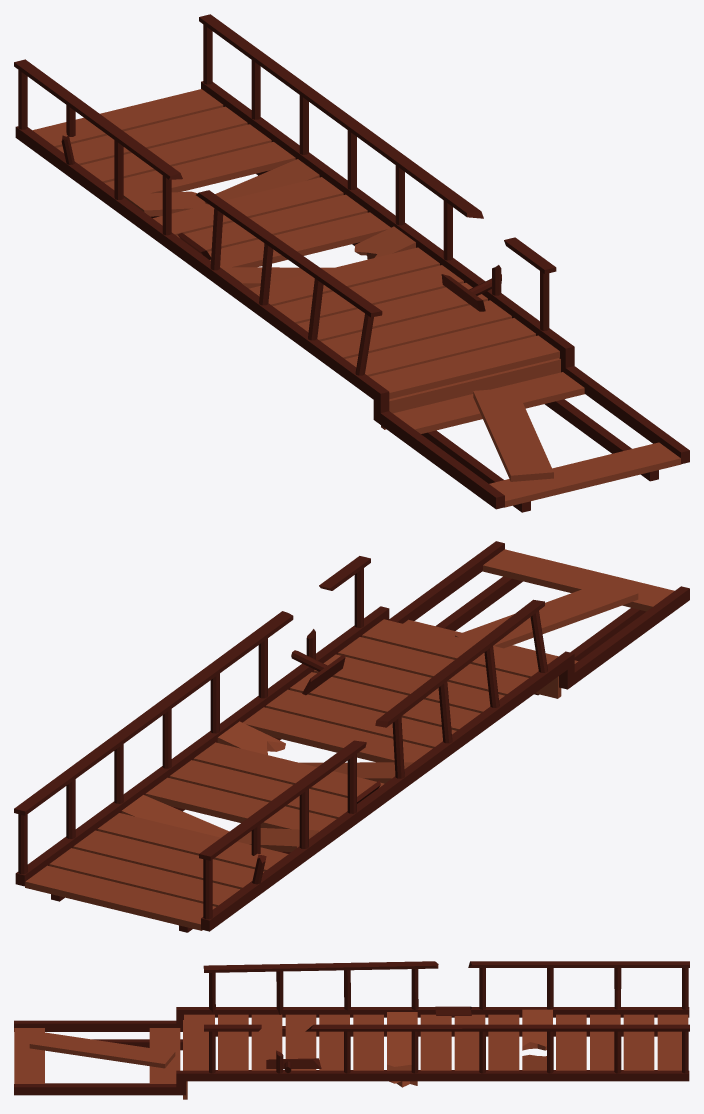
File: The_pier.fbx
The picture shows the model from 3 angles, top to bottom: view 1: azimuth 30°, elevation 25°; view 2: azimuth 150°, elevation 25°; view 3: azimuth 270°, elevation 25°; orthographic projection. The views are drawn at different scales.
Parts seen in each view (by area): view 1: Cube.013, Cube.029, Cube.027, Cube.030, Cylinder.054, Cube.015, Cube.034, Cube.028, Cube.026, Cube.038, Cube.035, Cube.036 (+2 smaller); view 2: Cube.013, Cube.029, Cube.030, Cylinder.054, Cube.027, Cube.034, Cube.015, Cube.038, Cube.028, Cube.035, Cube.032, Cube.036 (+3 smaller); view 3: Cube.013, Cube.029, Cube.030, Cylinder.054, Cube.027, Cube.034, Cube.038, Cube.015, Cube.031, Cube.036, Cube.033, Cube.028 (+7 smaller).
Boxes of the visible parts, bbox=[...] form: Cube.013: bbox=[32, 89, 535, 376]; Cube.029: bbox=[15, 81, 689, 509]; Cube.027: bbox=[393, 372, 680, 507]; Cube.030: bbox=[14, 14, 556, 273]; Cylinder.054: bbox=[18, 24, 549, 330]; Cube.015: bbox=[369, 335, 559, 399]; Cube.034: bbox=[473, 387, 553, 481]; Cube.028: bbox=[421, 399, 658, 512]; Cube.026: bbox=[381, 358, 560, 429]; Cube.038: bbox=[196, 190, 382, 317]; Cube.035: bbox=[205, 159, 319, 204]; Cube.036: bbox=[123, 191, 208, 216]; Cube.013: bbox=[25, 637, 528, 930]; Cube.029: bbox=[15, 541, 689, 931]; Cube.030: bbox=[14, 556, 370, 860]; Cylinder.054: bbox=[18, 568, 363, 919]; Cube.027: bbox=[403, 549, 674, 663]; Cube.034: bbox=[455, 579, 638, 648]; Cube.015: bbox=[362, 619, 552, 677]; Cube.038: bbox=[375, 599, 544, 727]; Cube.028: bbox=[435, 576, 646, 695]; Cube.035: bbox=[121, 795, 229, 837]; Cube.032: bbox=[217, 721, 285, 754]; Cube.036: bbox=[237, 828, 318, 852]; Cube.013: bbox=[218, 1014, 688, 1070]; Cube.029: bbox=[14, 1007, 689, 1095]; Cube.030: bbox=[204, 961, 689, 1031]; Cylinder.054: bbox=[209, 968, 688, 1073]; Cube.027: bbox=[14, 1028, 180, 1083]; Cube.034: bbox=[29, 1031, 175, 1068]; Cube.038: bbox=[203, 961, 438, 972]; Cube.015: bbox=[184, 1014, 214, 1070]; Cube.031: bbox=[387, 1012, 417, 1087]; Cube.036: bbox=[522, 1009, 552, 1050]; Cube.033: bbox=[266, 1058, 321, 1068]; Cube.028: bbox=[45, 1039, 182, 1083].
Bounding box in the file's own units: 3.4 × 1.71 × 13.68.
